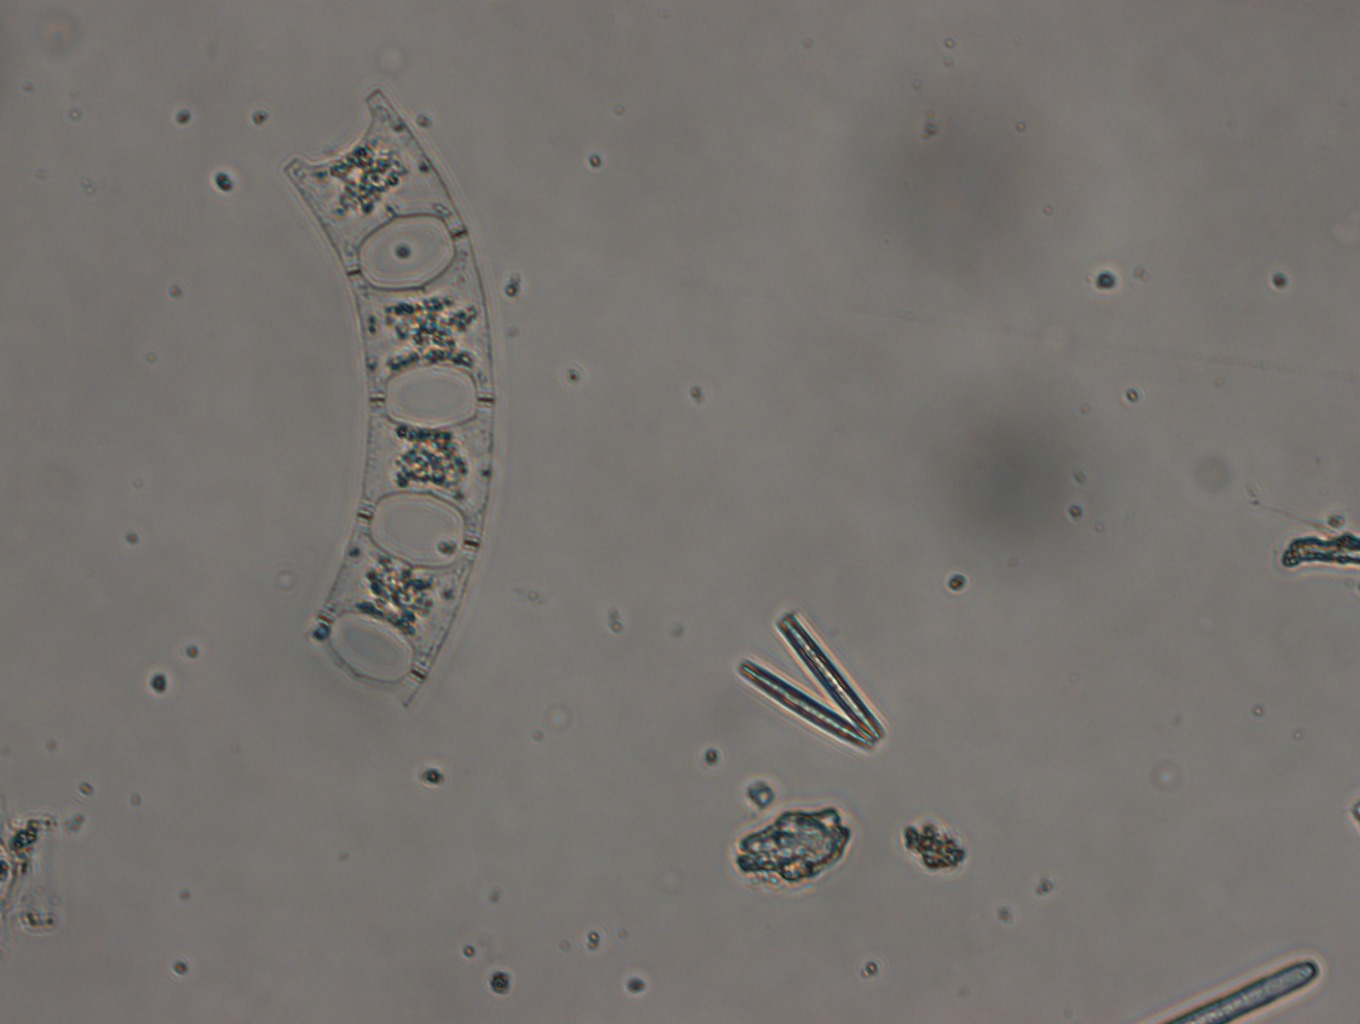eucampia: (274, 82, 499, 712)
thalassionema frauenfeldii: (727, 611, 892, 760)
